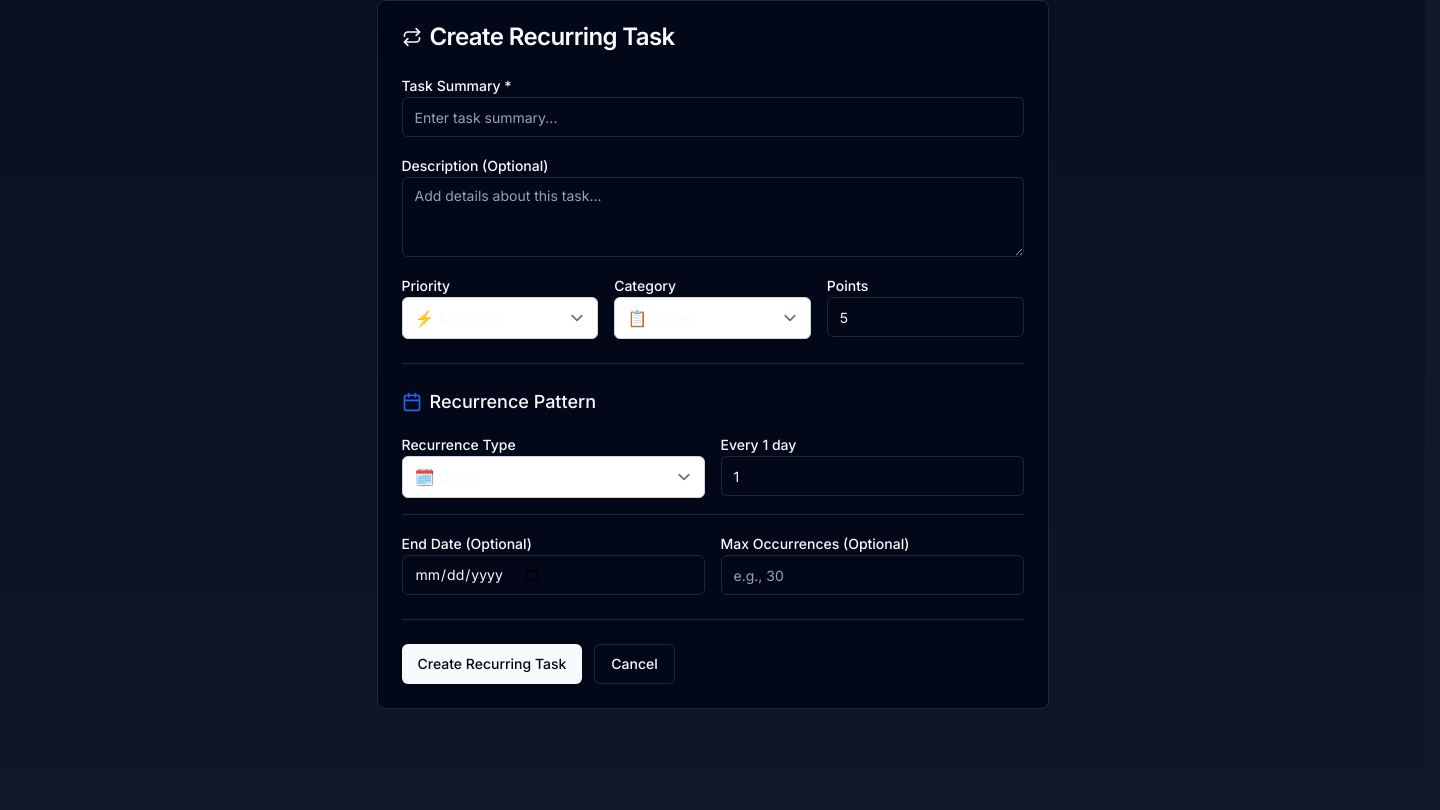
Test: RecurringTaskForm › Form Validation › should require task summary
Click the button "Create Recurring Task" at (492, 664), box [402,644,582,684]
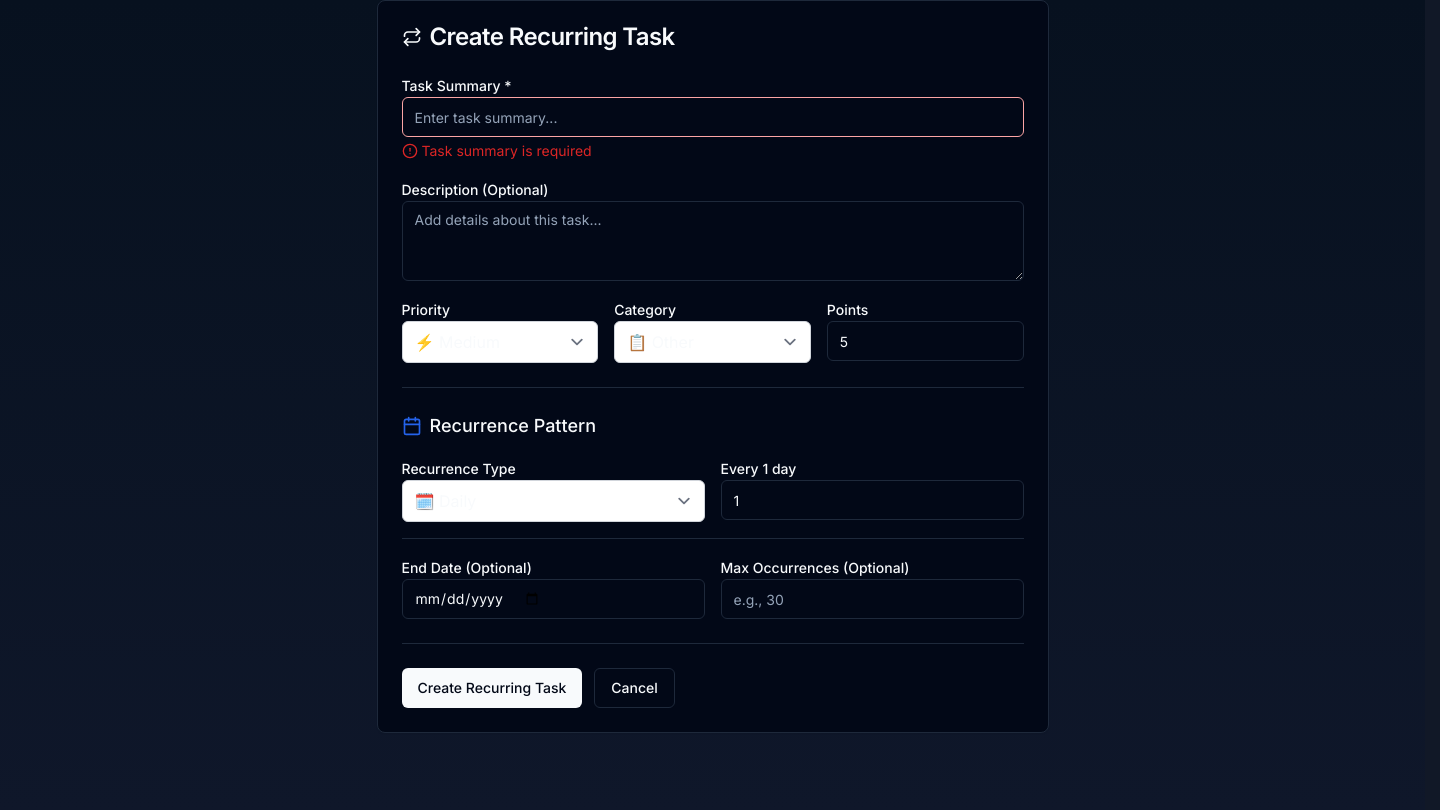
Result: the text "Task summary is required" is shown at [402,142,592,159]
